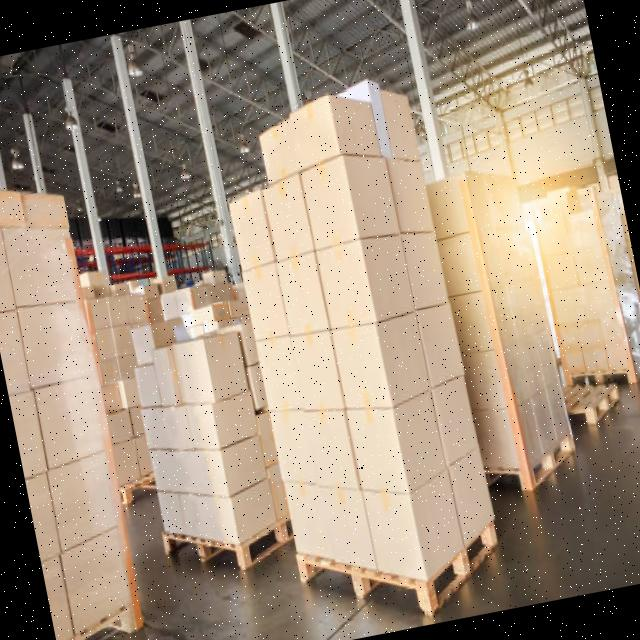Wooden-Pallets: (297, 510, 503, 621), (158, 517, 295, 573), (519, 416, 584, 508), (584, 375, 626, 439)
